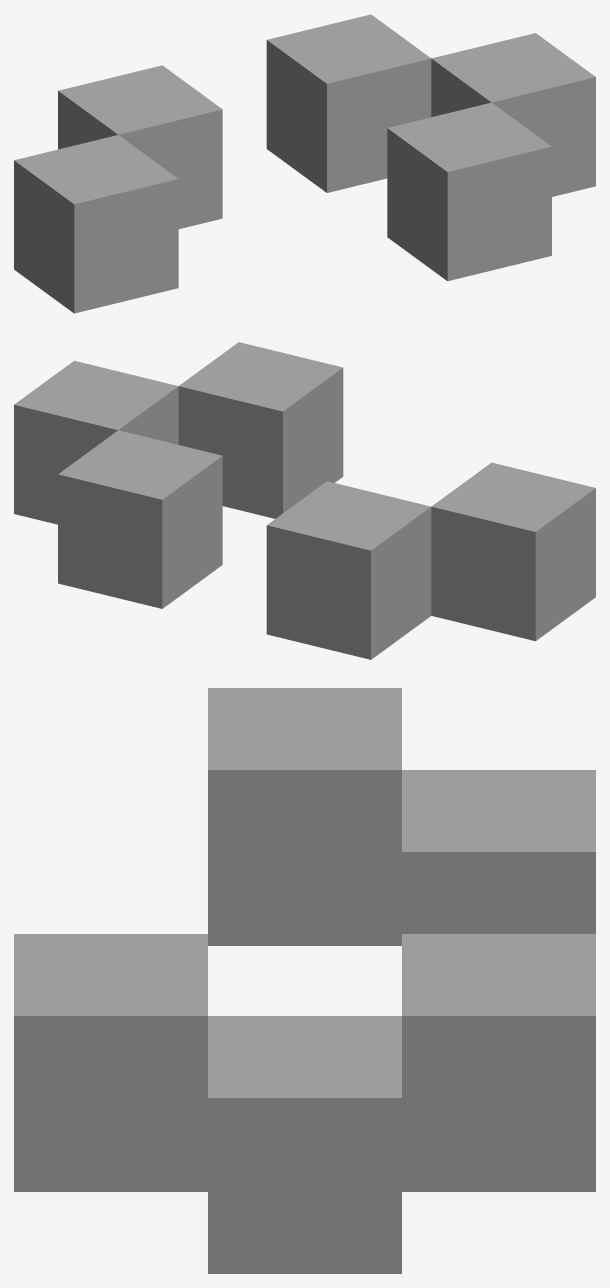
The model's file is enoki_1.obj.
The picture shows the model from 3 angles, top to bottom: view 1: azimuth 30°, elevation 25°; view 2: azimuth 150°, elevation 25°; view 3: azimuth 270°, elevation 25°; orthographic projection. The views are drawn at different scales.
Size of the model in its own units: 1 by 0.2 by 0.6.
Materials: 1 (1 with a texture image).
